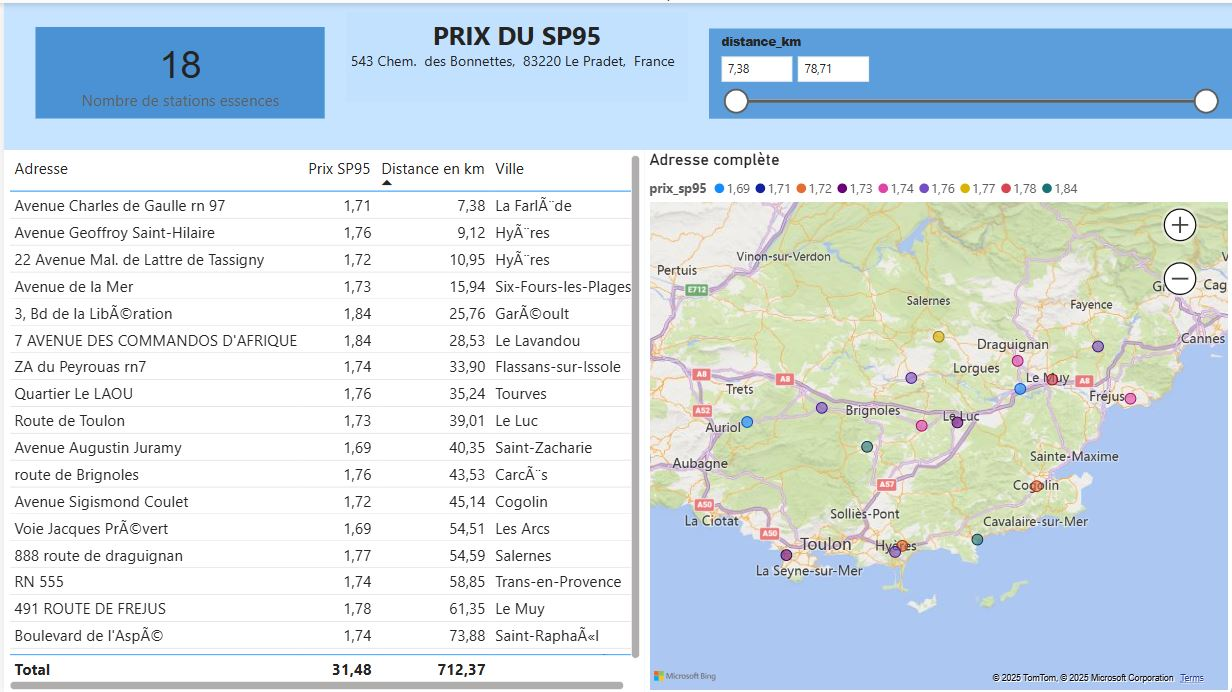

The page's visual inventory and layout, read from the dashboard file:
{"tool":"powerbi","page":{"name":"Page 1","canvas":[1280,720],"ordinal":0},"visuals":[{"type":"textbox","box":[356.4,9.4,356.4,93.8],"z":0},{"type":"tableEx","fields":{"Values":["analyse_cout_station station_moins_chere.adresse","Sum(analyse_cout_station station_moins_chere.prix_sp95)","Sum(analyse_cout_station station_moins_chere.distance_km)","analyse_cout_station station_moins_chere.ville"]},"box":[0,153.2,667.4,567.4],"z":1000},{"type":"map","title":"Adresse complète","fields":{"Category":["analyse_cout_station station_moins_chere.adresse_complete"],"Series":["analyse_cout_station station_moins_chere.prix_sp95"]},"box":[667.4,153.2,612.7,567.4],"z":2000},{"type":"card","fields":{"Values":["CountNonNull(analyse_cout_station station_moins_chere.id)"]},"box":[32.8,25,301.7,95.3],"z":3000},{"type":"slicer","fields":{"Values":["analyse_cout_station station_moins_chere.distance_km"]},"box":[734.6,26.6,545.5,93.8],"z":4000}]}

Visuals, with their boxes in screenshot pixels (x1, y1, x2, y2), scaled from the page's 1280x720 canvas onto the 1232x692 screenshot:
textbox: [left=343, top=9, right=686, bottom=99]
tableEx - analyse_cout_station station_moins_chere.adresse x Sum(analyse_cout_station station_moins_chere.prix_sp95): [left=0, top=147, right=642, bottom=691]
"Adresse complète" map: [left=642, top=147, right=1231, bottom=691]
card - CountNonNull(analyse_cout_station station_moins_chere.id): [left=32, top=24, right=322, bottom=116]
slicer - analyse_cout_station station_moins_chere.distance_km: [left=707, top=26, right=1231, bottom=116]
